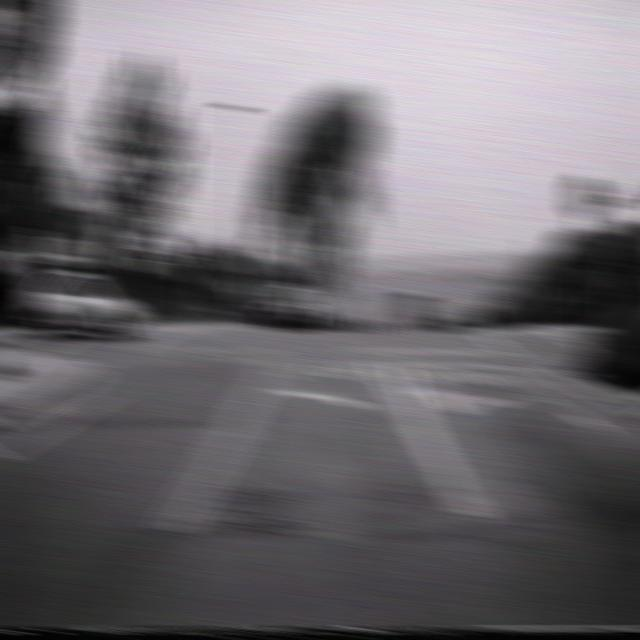stop: (566, 174, 605, 222)
